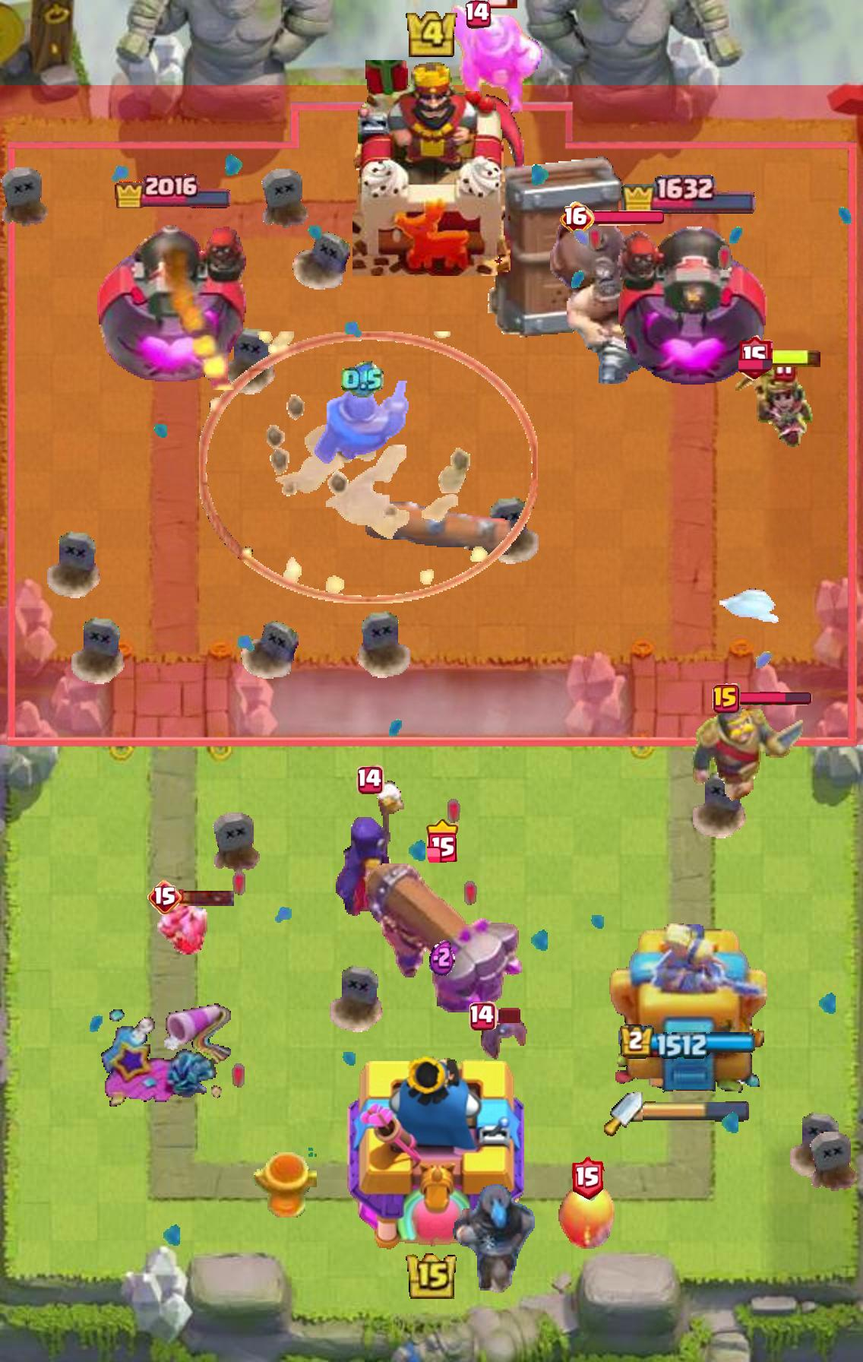bar: (768, 348, 823, 368), (591, 211, 664, 226), (179, 888, 235, 907), (737, 692, 812, 705), (492, 1007, 523, 1024), (488, 0, 518, 9)
bar-level: (738, 335, 772, 381), (426, 819, 458, 863), (572, 1156, 604, 1200), (147, 880, 182, 915), (560, 202, 595, 236), (712, 683, 740, 714), (357, 765, 385, 795), (469, 1001, 497, 1030), (466, 0, 492, 29)
